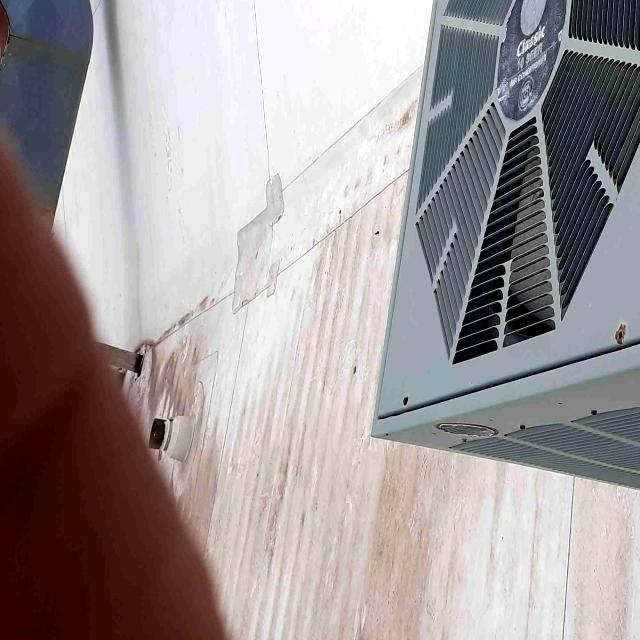SPLIT-SYSTEM: (363, 0, 640, 530)
